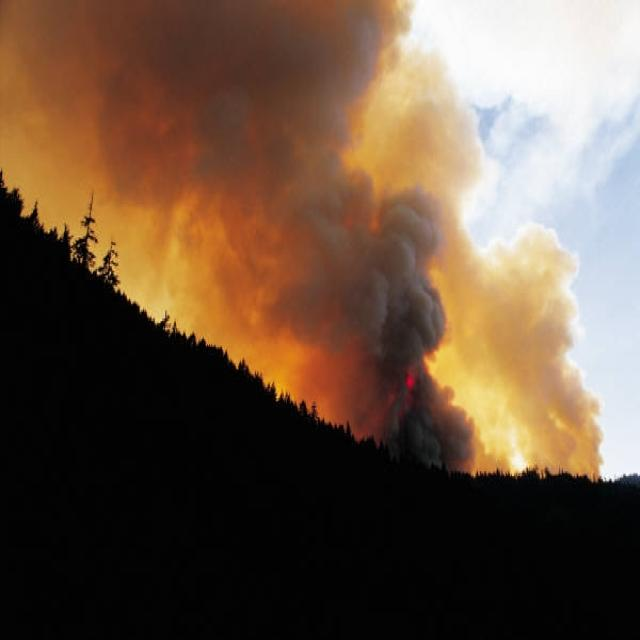Fire: (392, 366, 430, 404)
Smoke: (8, 0, 613, 484)
